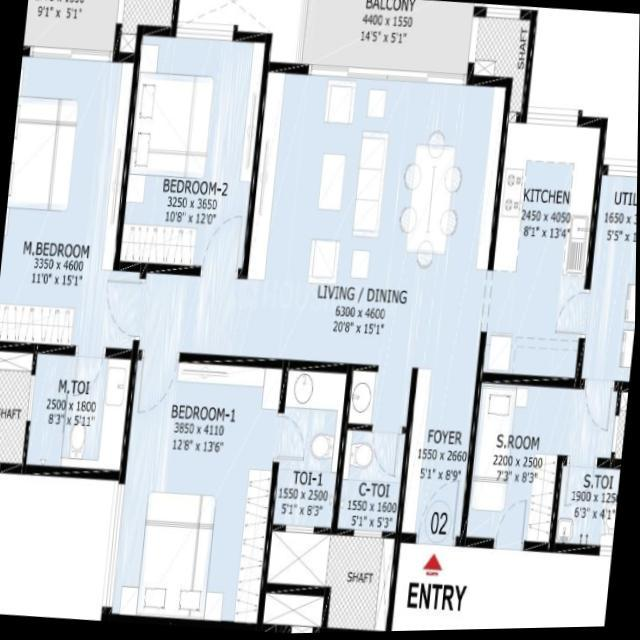Balcony-Sitout: (295, 0, 482, 82), (21, 0, 122, 61)
Bedroom: (108, 349, 291, 632), (111, 22, 270, 282), (465, 375, 574, 551)
Bedroom with Toilet: (0, 47, 145, 482)
Dining: (392, 128, 466, 273)
Kitchen: (480, 106, 606, 385)
Living: (246, 59, 401, 287)
Toilet: (18, 344, 139, 482), (333, 364, 421, 542), (269, 362, 351, 533), (549, 456, 623, 556)
Utility: (576, 160, 638, 386)
